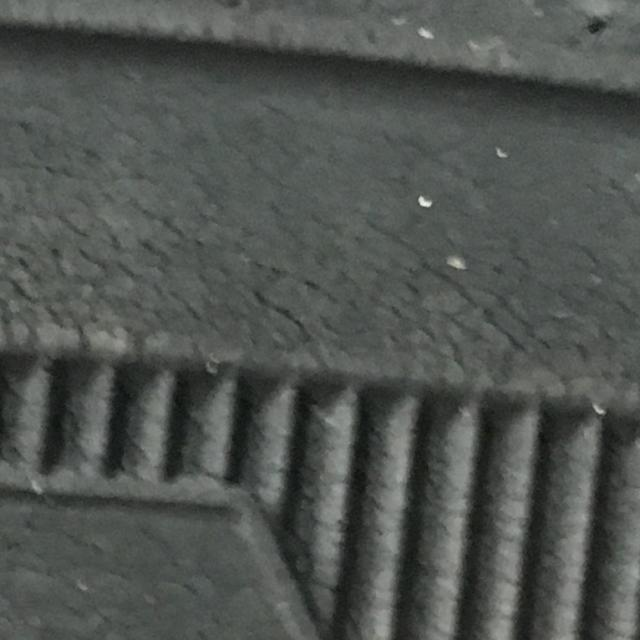Cracks: (0, 0, 640, 440), (0, 468, 338, 640)
